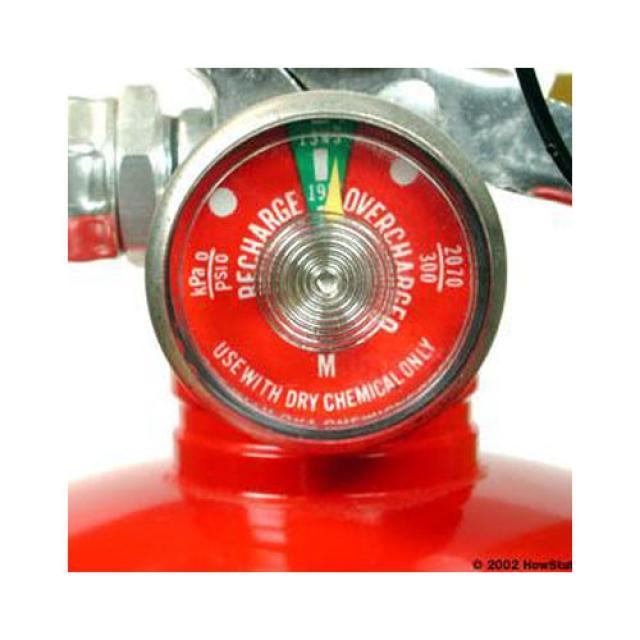pressure gauge: (147, 91, 504, 451)
